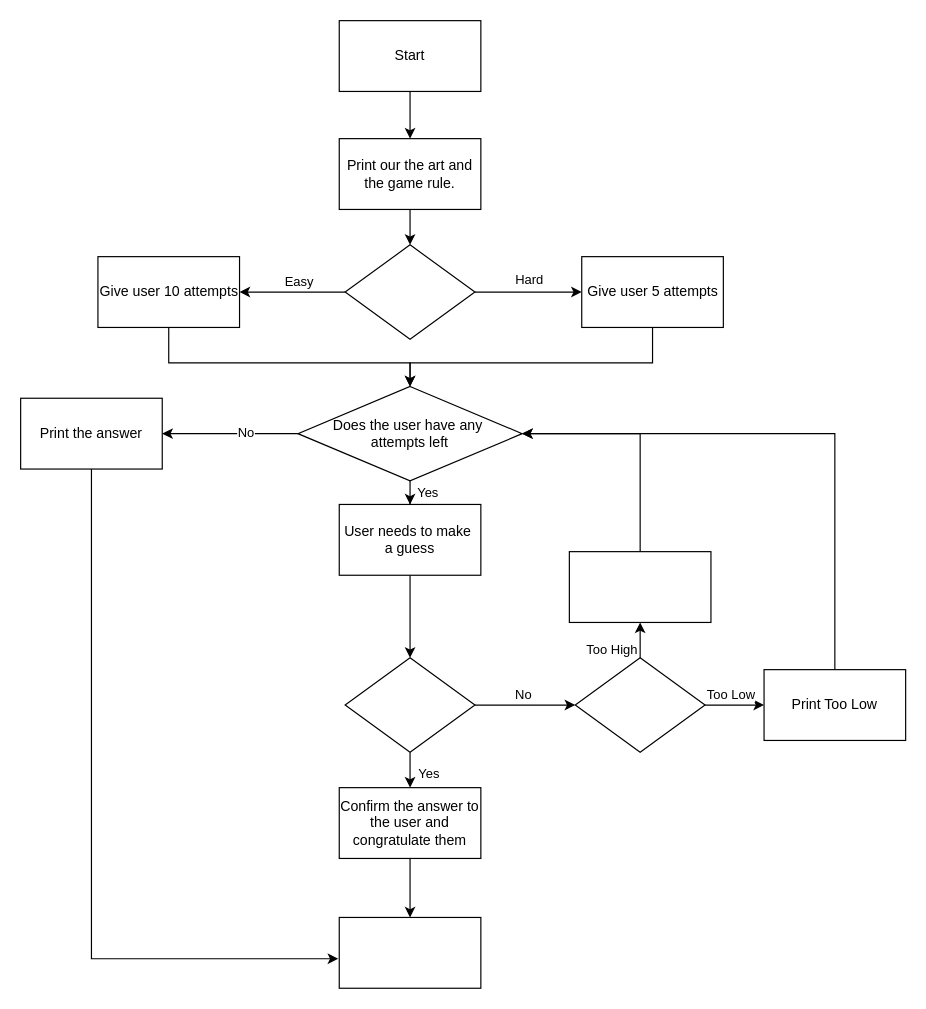
Image size: 926x1009. Some labels were removed from this diagram. Here are the shapes that lost their labels. From the top down, the centre of each, then its label:
point 409,291: Select Dificulty Easy or Hard
point 639,586: Print Too High
point 409,704: Is it correct
point 639,704: Too Low or Too High
point 409,952: Game Over
